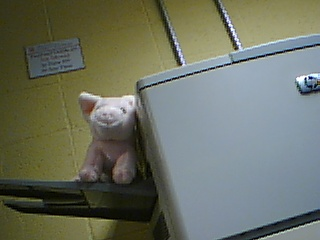piggy: (74, 90, 139, 186)
